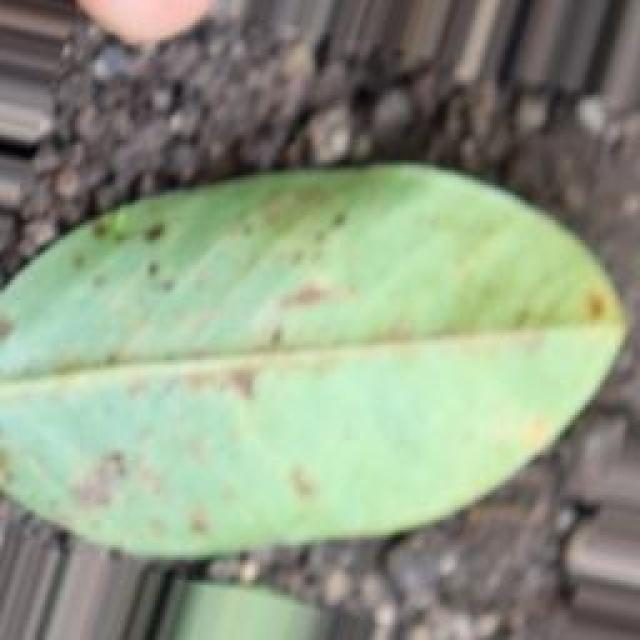Whitefly: (0, 170, 605, 560)
